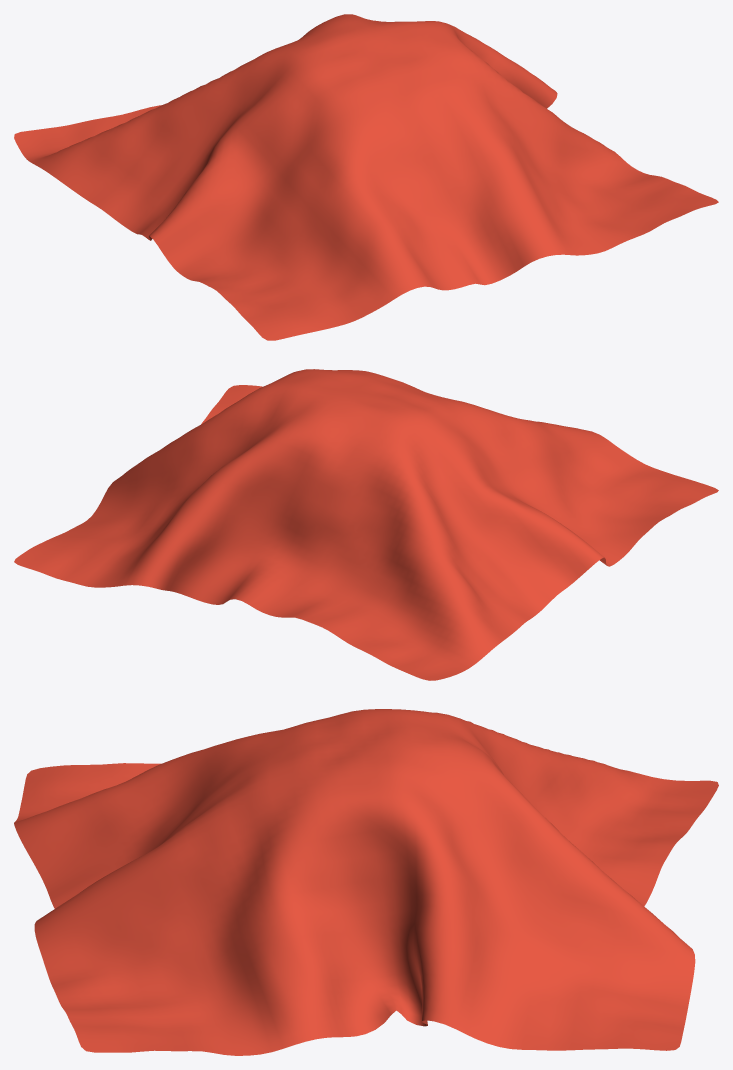
The model's file is Rag.glb.
3 renders of one model, top to bottom at view 1: azimuth 30°, elevation 25°; view 2: azimuth 150°, elevation 25°; view 3: azimuth 270°, elevation 25°, orthographic. The views are drawn at different scales.
Visible parts, largest first — view 1: Plane; view 2: Plane; view 3: Plane.
Boxes of the visible parts, x1,y1,x2,y2 form: Plane: [14, 14, 718, 340]; Plane: [14, 369, 718, 680]; Plane: [14, 709, 718, 1055].
Bounding box in the file's own units: 4.38 × 1.38 × 4.48.
